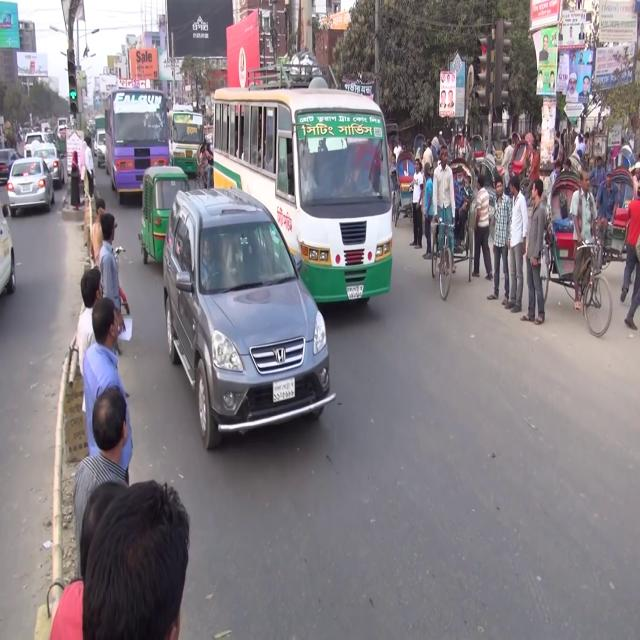black: (161, 192, 328, 466)
silver: (8, 153, 55, 214)
